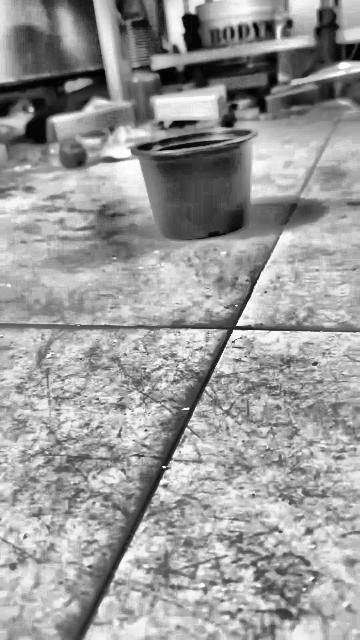pot: (130, 129, 257, 240)
